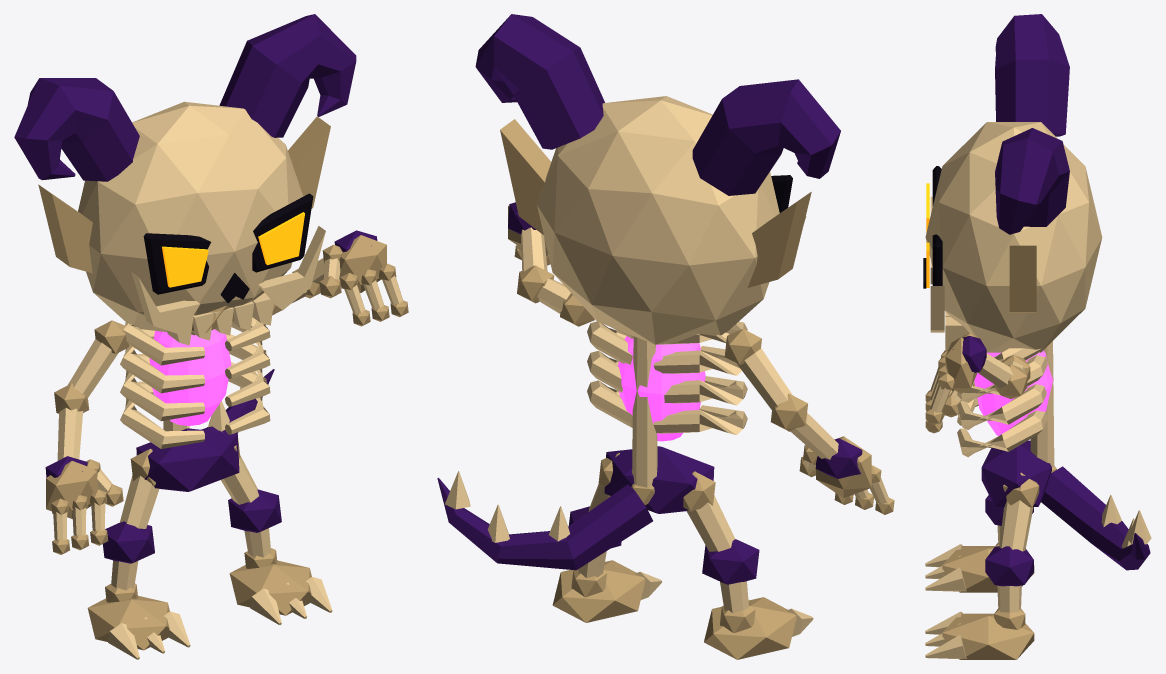
The model's file is SkeletonImp.glb.
3 renders of one model, left to right at view 1: azimuth 30°, elevation 25°; view 2: azimuth 150°, elevation 25°; view 3: azimuth 270°, elevation 25°, orthographic. The views are drawn at different scales.
Parts seen in each view (by area): view 1: Demon skull, Curled purple horn1, Curled purple horn-1, Pelvis, Violet soul, Foot-1, Foot1, Elfin bone ear-1, Elfin bone ear1, ImpEye-1_Socket, Cheek ridge1, Palm-1 (+25 smaller); view 2: Demon skull, Curled purple horn-1, Curled purple horn1, Imp articulated tail, Pelvis, Foot-1, Foot1, Violet soul, Elfin bone ear1, Elfin bone ear-1, Spine_Shaft, Floating rib0-1 (+21 smaller); view 3: Demon skull, Curled purple horn-1, Curled purple horn1, Imp articulated tail, Foot1, Pelvis, Elfin bone ear1, Floating rib01, Foot-1, Knee wrap1, Floating rib11, Violet soul (+19 smaller).
Boxes of the visible parts, box(x1,y1,x2,y2) form: Demon skull: box(78, 101, 303, 335); Curled purple horn1: box(219, 14, 356, 137); Curled purple horn-1: box(14, 78, 139, 181); Pelvis: box(136, 428, 239, 491); Violet soul: box(149, 329, 231, 425); Foot-1: box(87, 595, 169, 650); Foot1: box(229, 560, 311, 615); Elfin bone ear-1: box(38, 184, 92, 273); Elfin bone ear1: box(288, 116, 330, 208); ImpEye-1_Socket: box(143, 233, 210, 294); Cheek ridge1: box(258, 226, 325, 309); Palm-1: box(46, 461, 97, 518); Demon skull: box(537, 96, 779, 344); Curled purple horn-1: box(692, 79, 840, 195); Curled purple horn1: box(475, 14, 604, 149); Imp articulated tail: box(437, 477, 652, 570); Pelvis: box(604, 446, 714, 513); Foot-1: box(704, 597, 796, 659); Foot1: box(552, 560, 645, 622); Violet soul: box(618, 336, 705, 441); Elfin bone ear1: box(500, 119, 551, 235); Elfin bone ear-1: box(747, 192, 811, 287); Spine_Shaft: box(632, 336, 657, 487); Floating rib0-1: box(653, 405, 747, 434); Demon skull: box(925, 122, 1102, 352); Curled purple horn-1: box(995, 14, 1069, 136); Curled purple horn1: box(995, 128, 1069, 234); Imp articulated tail: box(1041, 466, 1150, 570); Foot1: box(942, 613, 1034, 659); Pelvis: box(981, 440, 1051, 506); Elfin bone ear1: box(1009, 245, 1036, 312); Floating rib01: box(957, 410, 1047, 457); Foot-1: box(942, 546, 1034, 592); Knee wrap1: box(985, 546, 1033, 586); Floating rib11: box(957, 384, 1046, 429); Violet soul: box(974, 350, 1053, 435).
Size of the model in its own units: 2.8 by 4.25 by 1.6.
